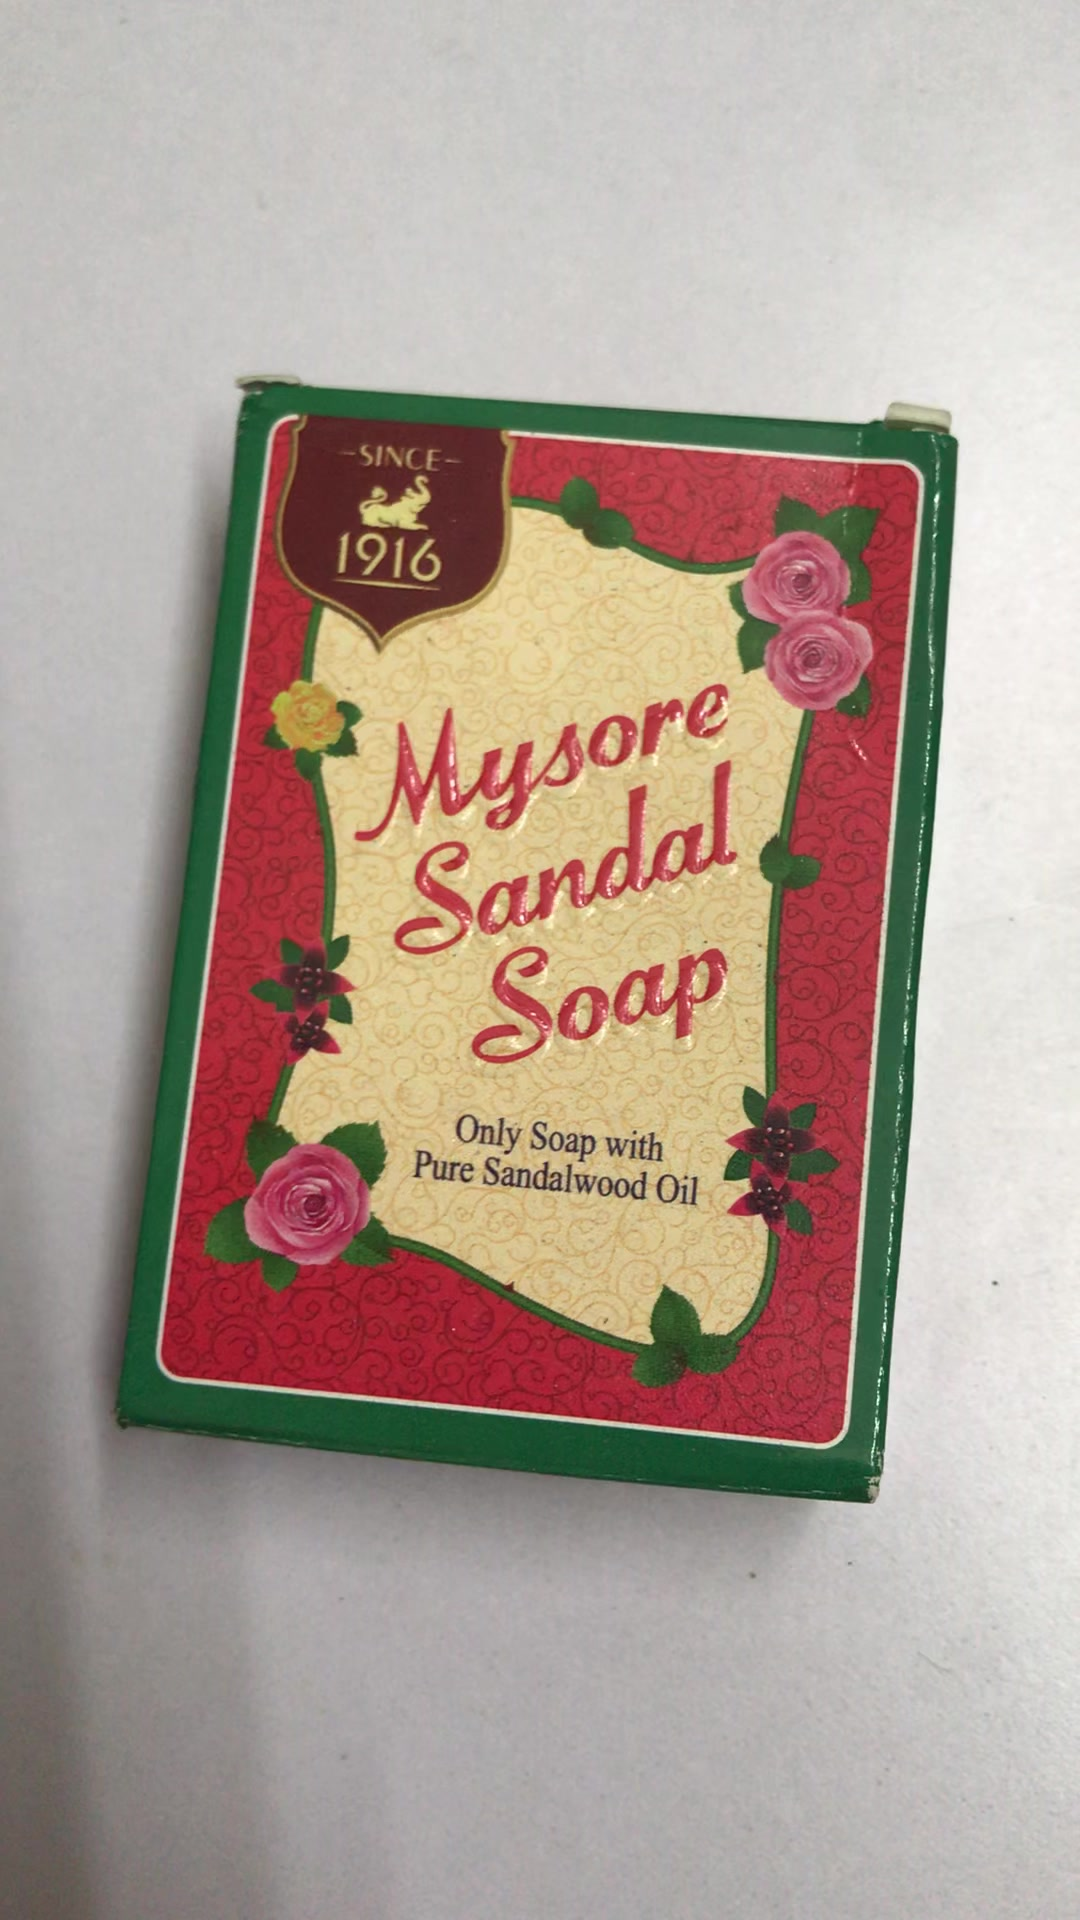mysore sandal soap: (107, 388, 963, 1511)
